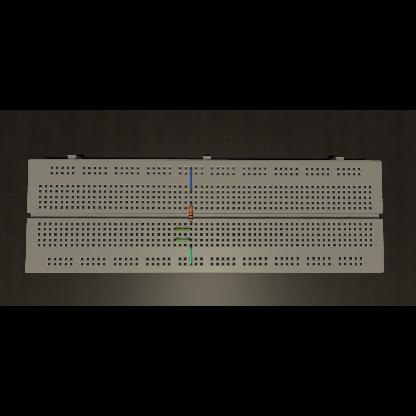breadboard: (26, 156, 385, 274)
resistor: (189, 206, 193, 221)
wire: (190, 168, 192, 192), (190, 245, 192, 266), (174, 229, 192, 231), (174, 239, 192, 241), (190, 202, 192, 206), (190, 221, 192, 224)
